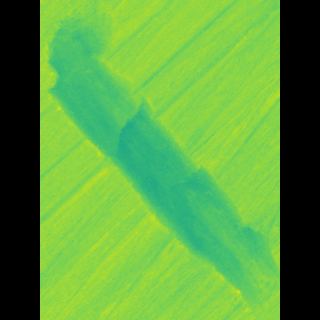Loch: (73, 11, 250, 314)
